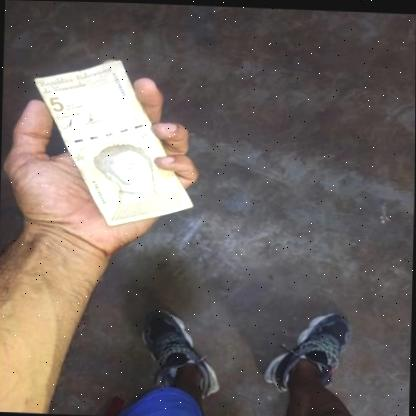vef_front: (30, 56, 196, 227)
